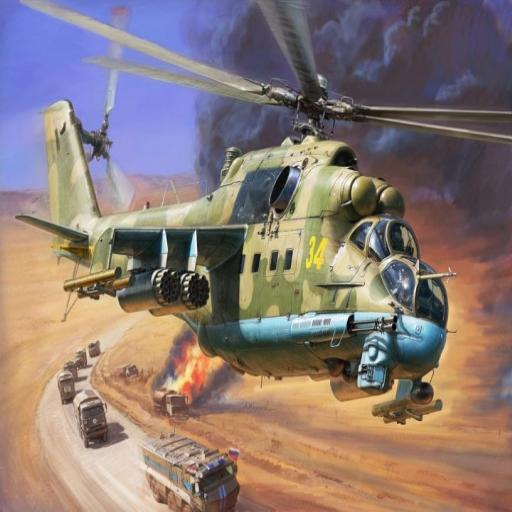helicopter: (39, 5, 491, 463)
